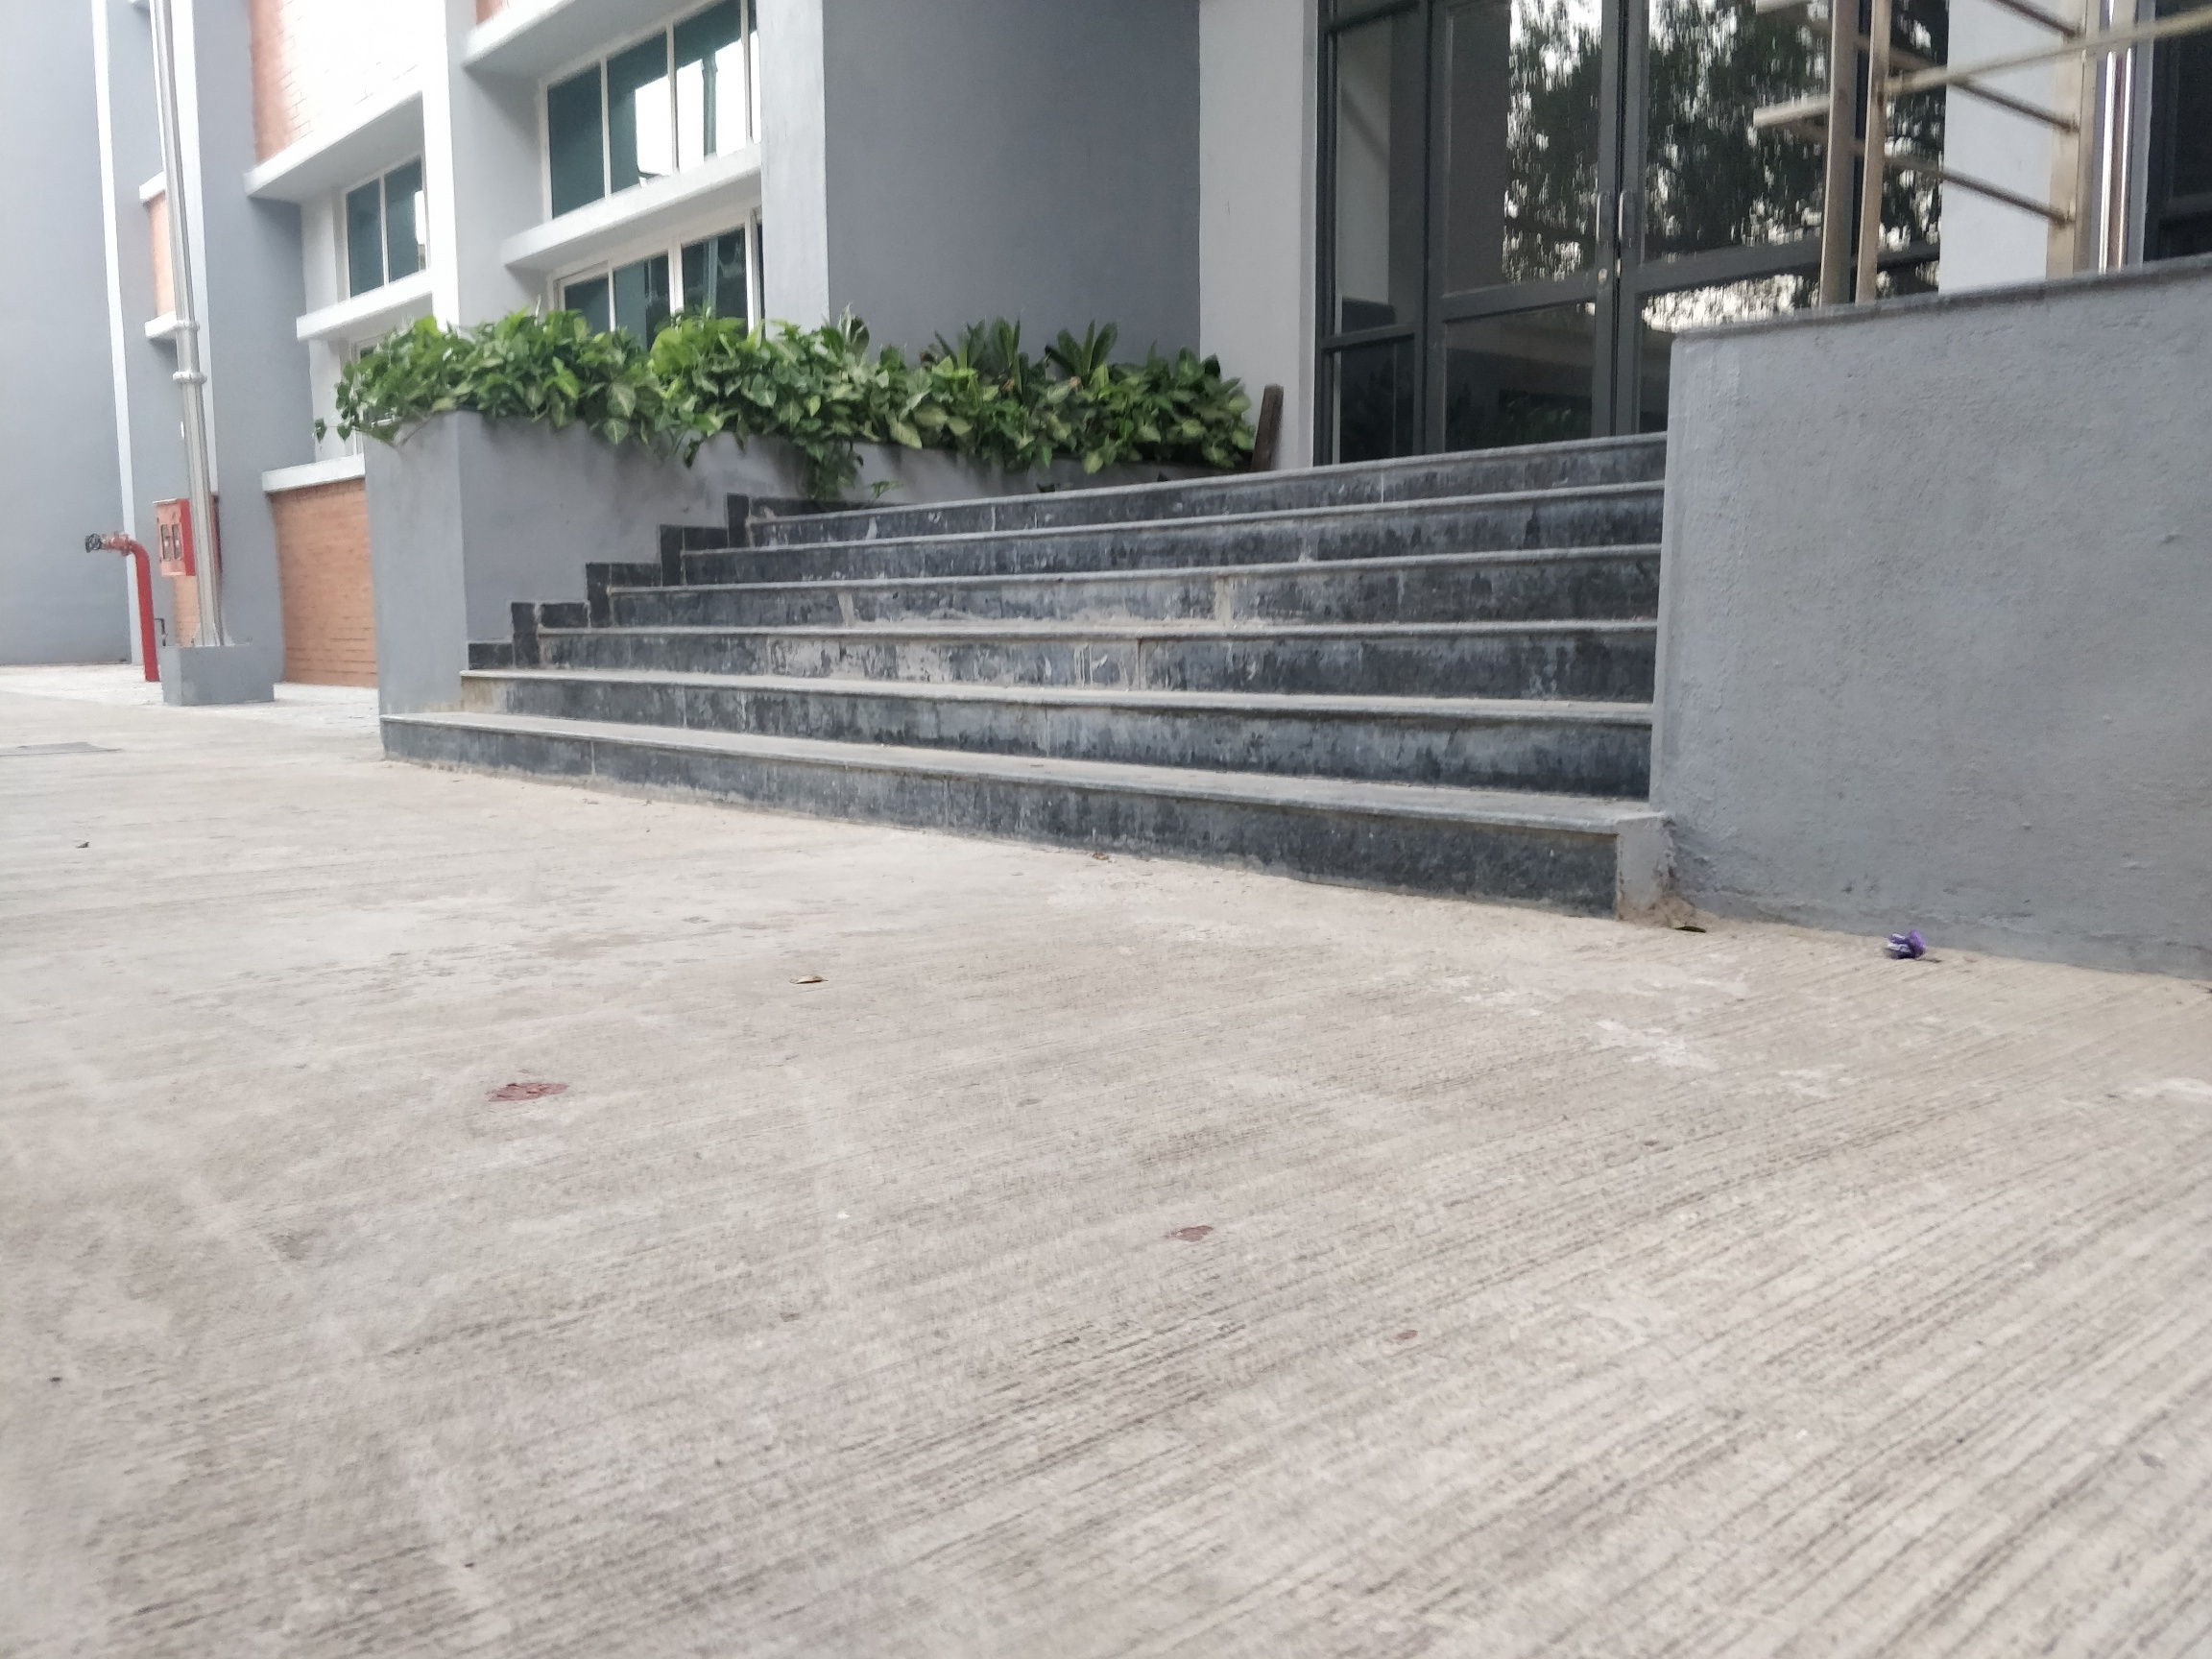stairs_up: (437, 418, 1663, 859)
